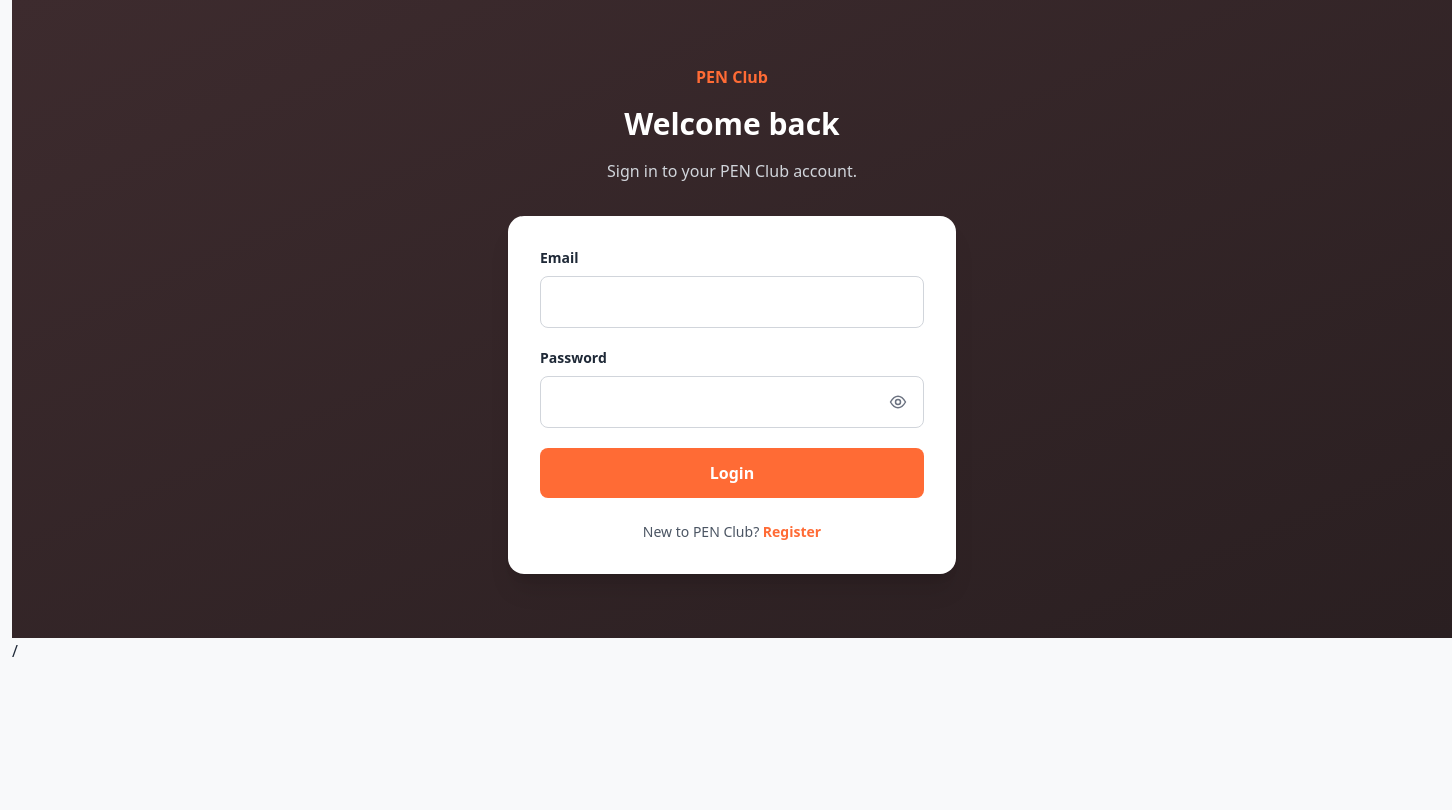
Auth › Auth shows backend sign-in errors
Type "jane@example.com" into the field labelled "Email" at (732, 302), box [540,276,924,328]
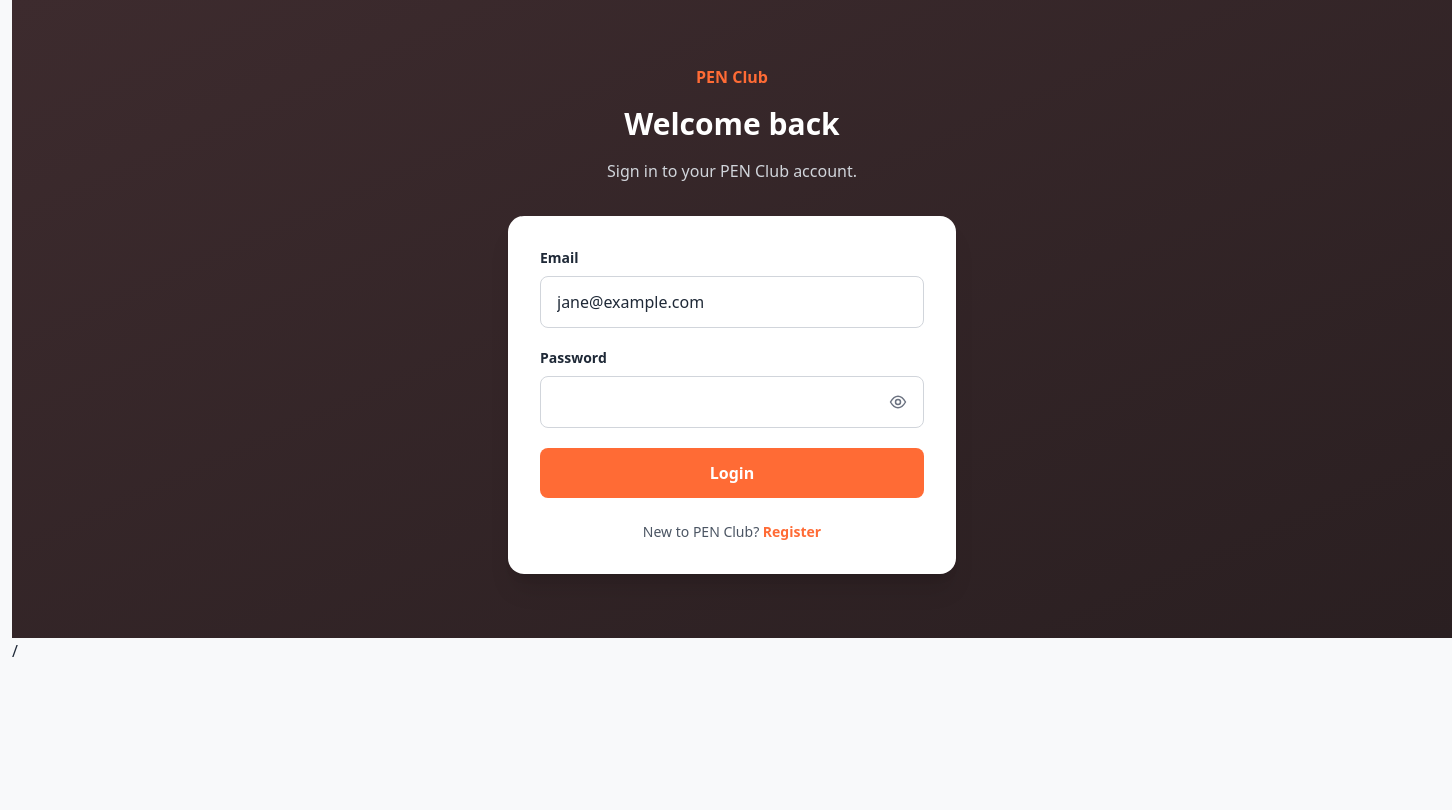
Type "password123" into the password field labelled "Password" at (732, 402), box [540,376,924,428]
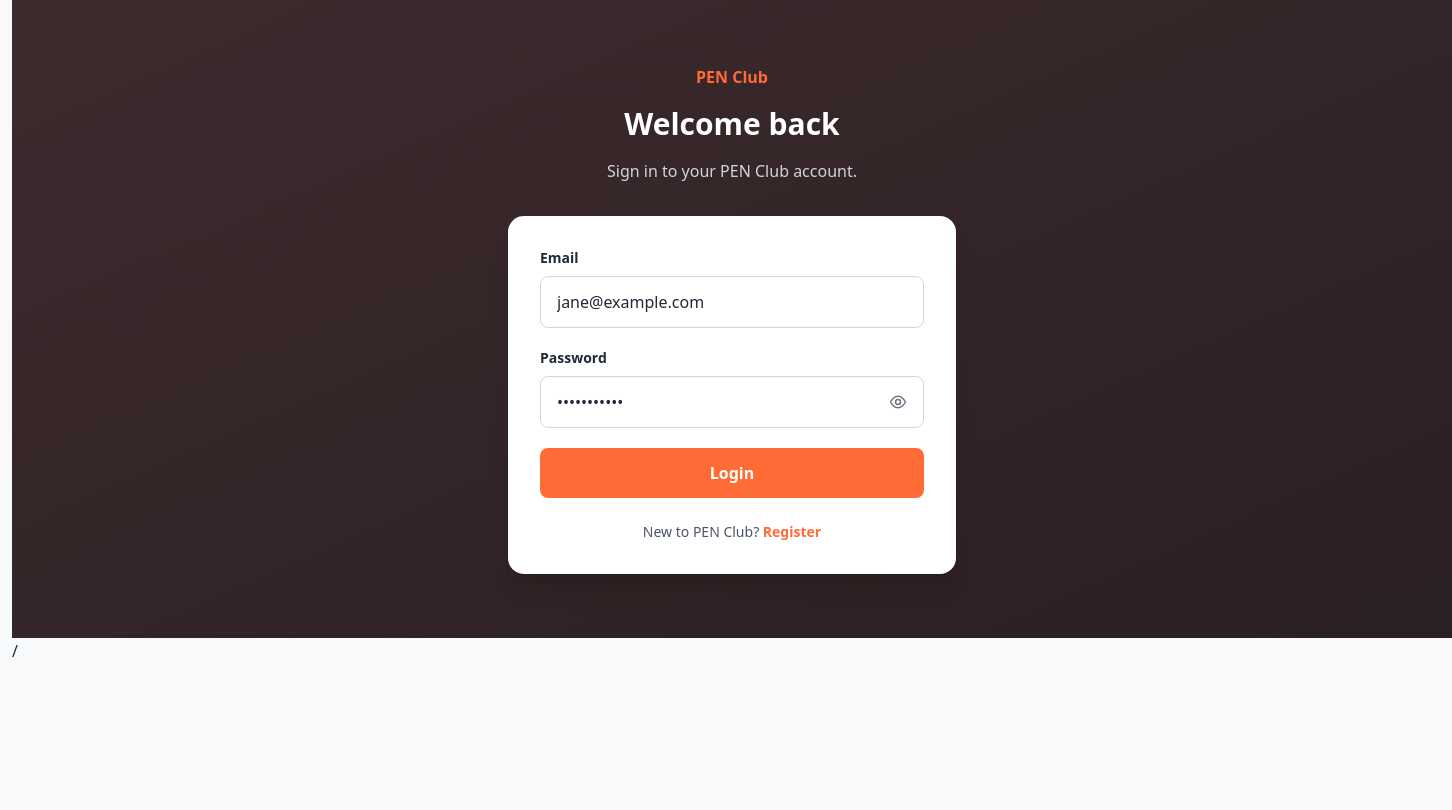
Click the button "Login" at (732, 473), box [540,448,924,498]
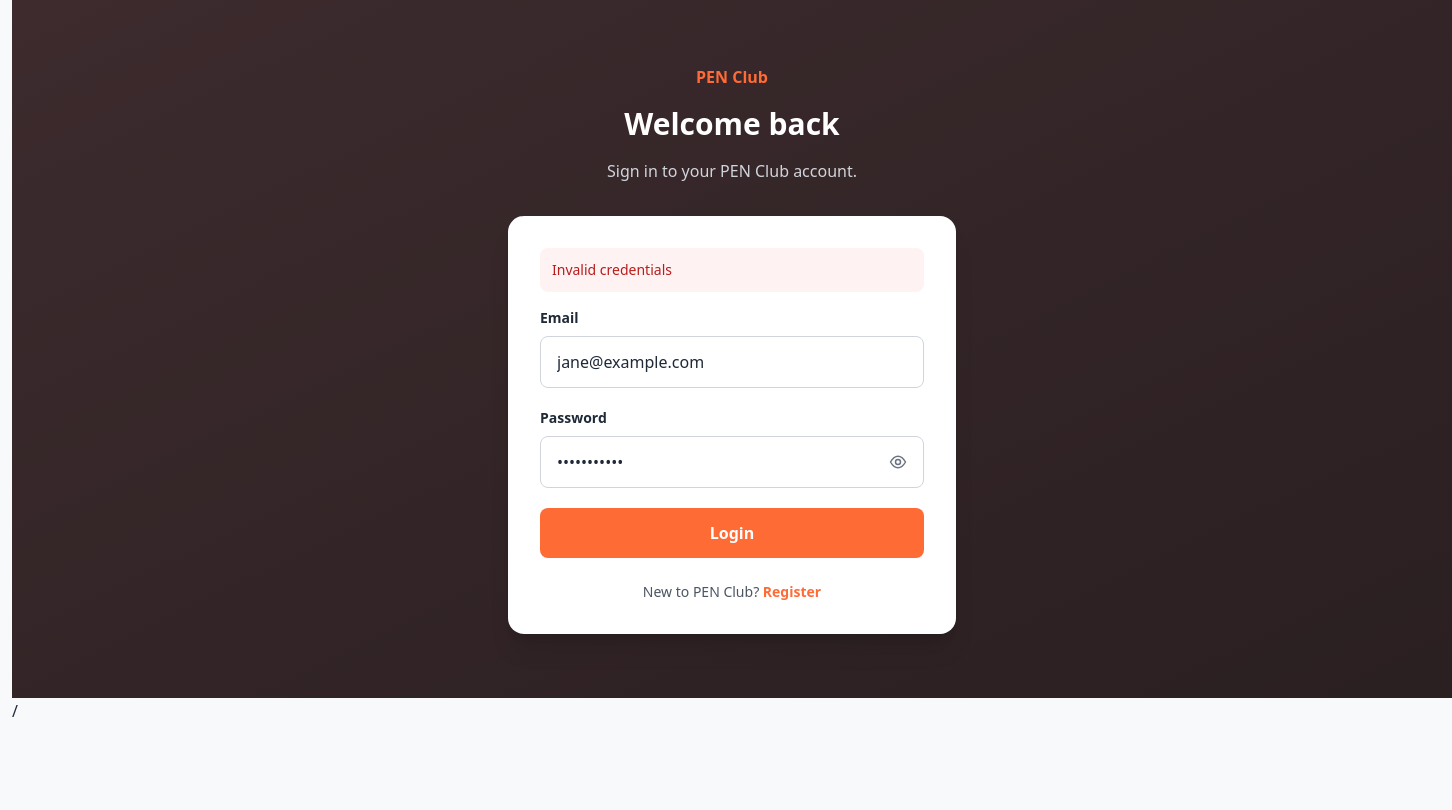
Expected: the message reads "Invalid credentials", [552,260,672,279]
